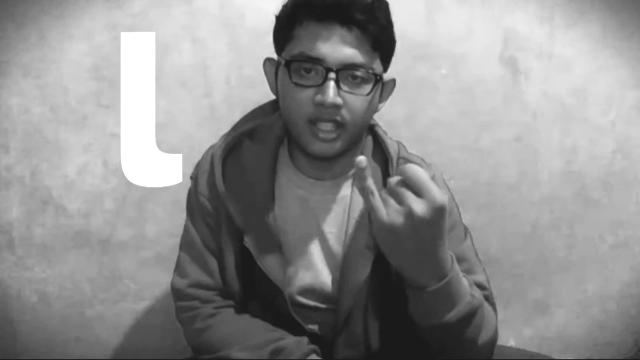J: (350, 145, 454, 269)
